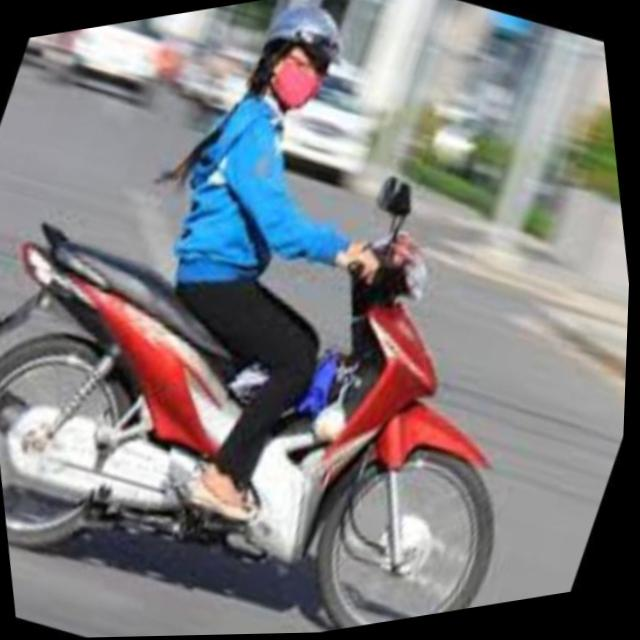WITH_HELMET: (230, 0, 373, 131)
